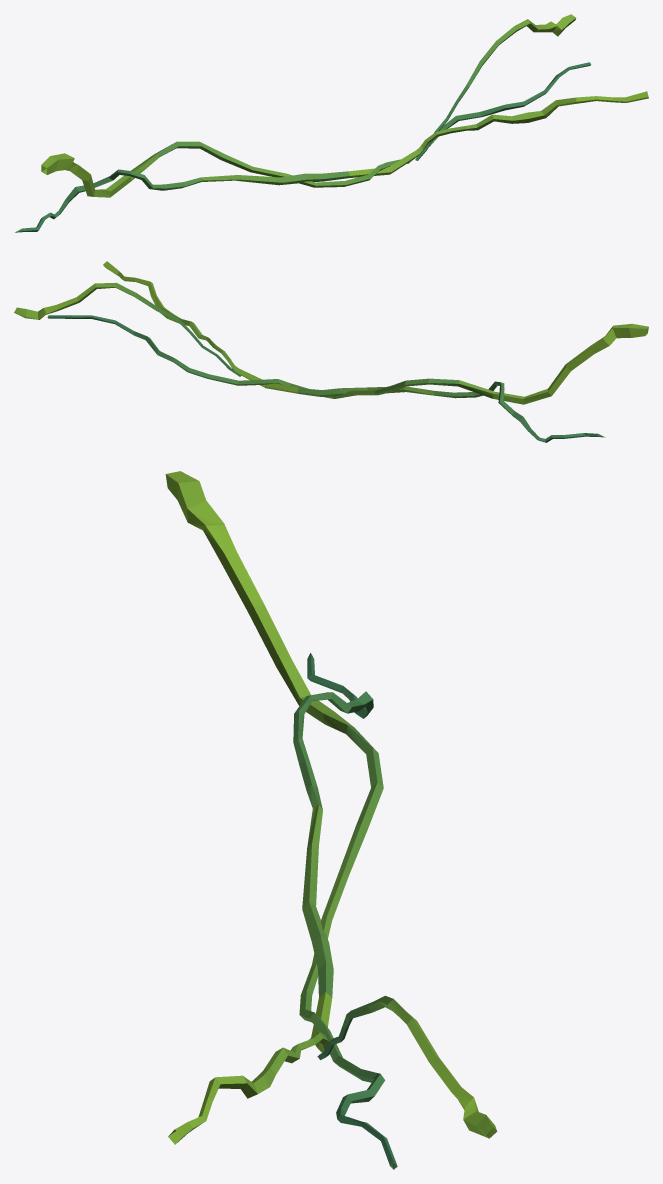
File: ZLP_Plant_Vine_B_2.FBX
The picture shows the model from 3 angles, top to bottom: view 1: azimuth 30°, elevation 25°; view 2: azimuth 150°, elevation 25°; view 3: azimuth 270°, elevation 25°; orthographic projection. The views are drawn at different scales.
Parts seen in each view (by area): view 1: ZLP_Plant_Vine_B_2; view 2: ZLP_Plant_Vine_B_2; view 3: ZLP_Plant_Vine_B_2.
Part boxes in pixels (box(x1,y1,x2,y2)): ZLP_Plant_Vine_B_2: box(15, 14, 648, 232); ZLP_Plant_Vine_B_2: box(14, 261, 648, 442); ZLP_Plant_Vine_B_2: box(165, 471, 497, 1169).
Size of the model in its own units: 1174 by 242 by 303.
